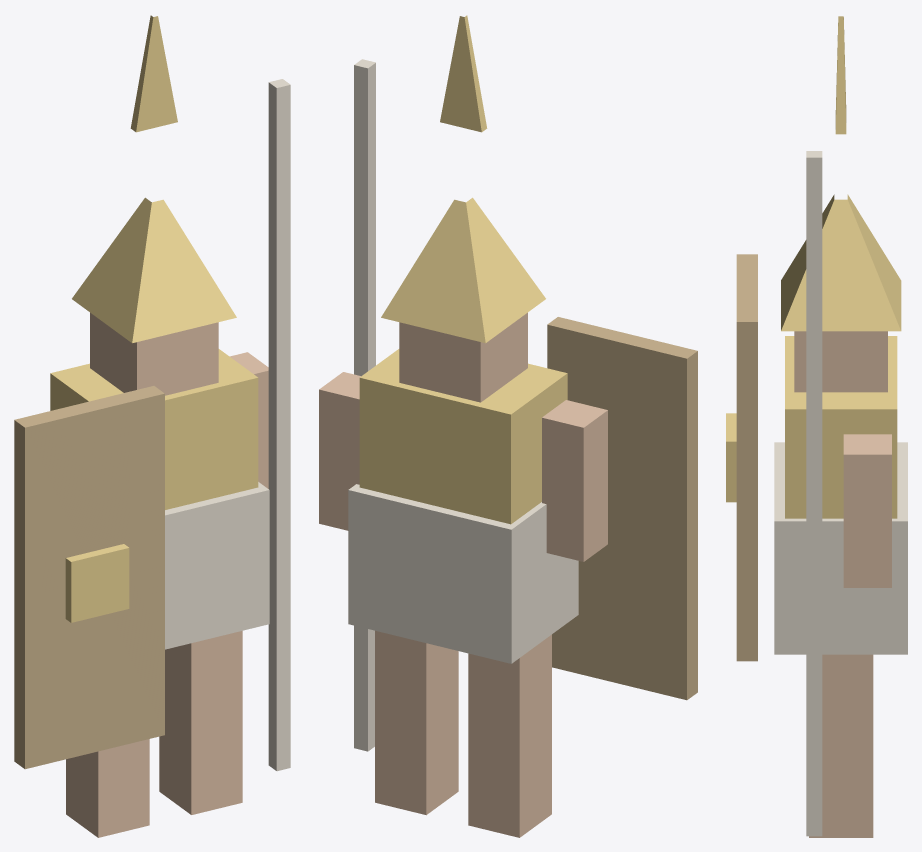
The model's file is bronze_warrior_high.glb.
The picture shows the model from 3 angles, left to right: view 1: azimuth 30°, elevation 25°; view 2: azimuth 150°, elevation 25°; view 3: azimuth 270°, elevation 25°; orthographic projection.
Size of the model in its own units: 1.29 by 3.25 by 0.68.
